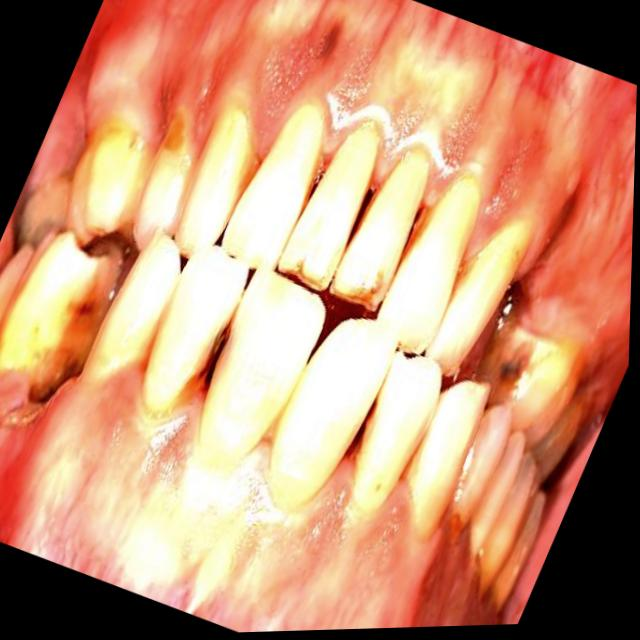gingivitis: (85, 0, 637, 362), (0, 370, 494, 632)
